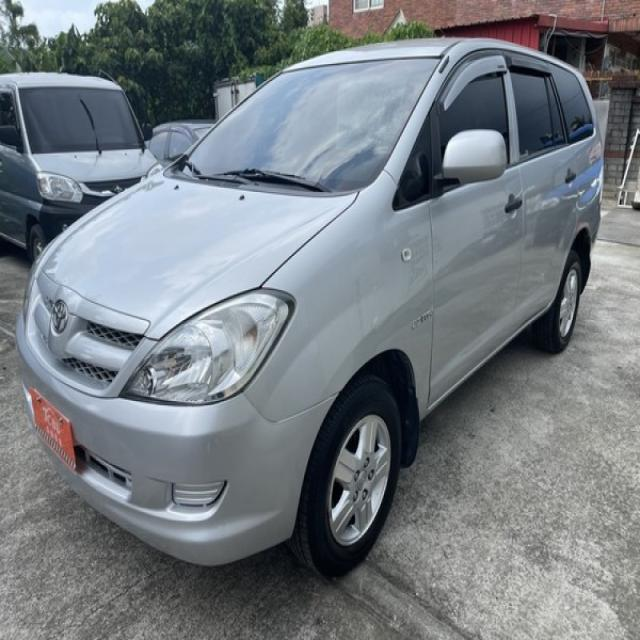light_vehicle: (14, 38, 606, 580)
